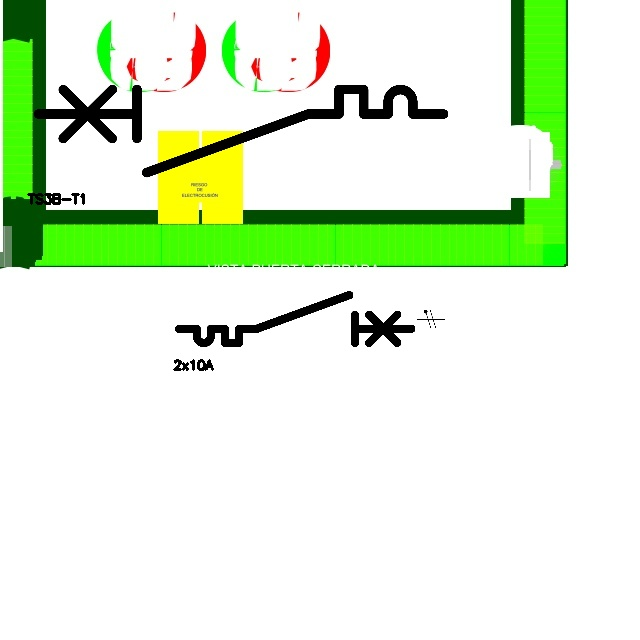interruptor_termomagnetico: (28, 79, 454, 183), (173, 289, 417, 349)
